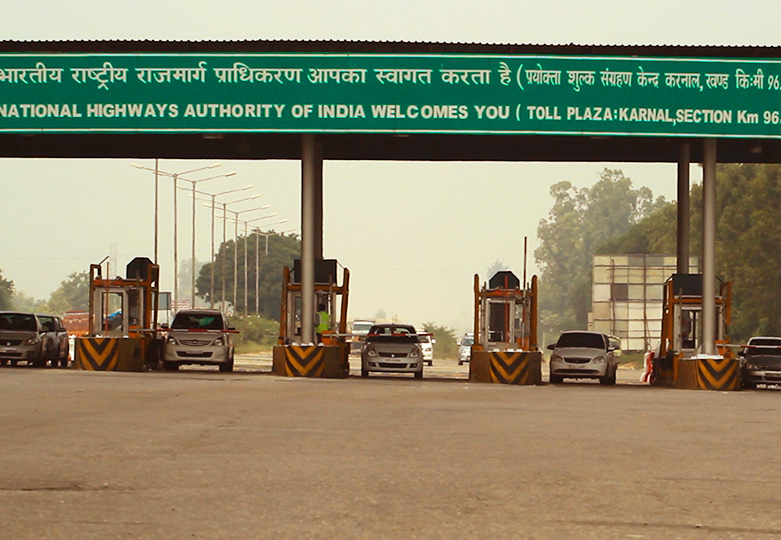toll plaza: (7, 30, 776, 391)
